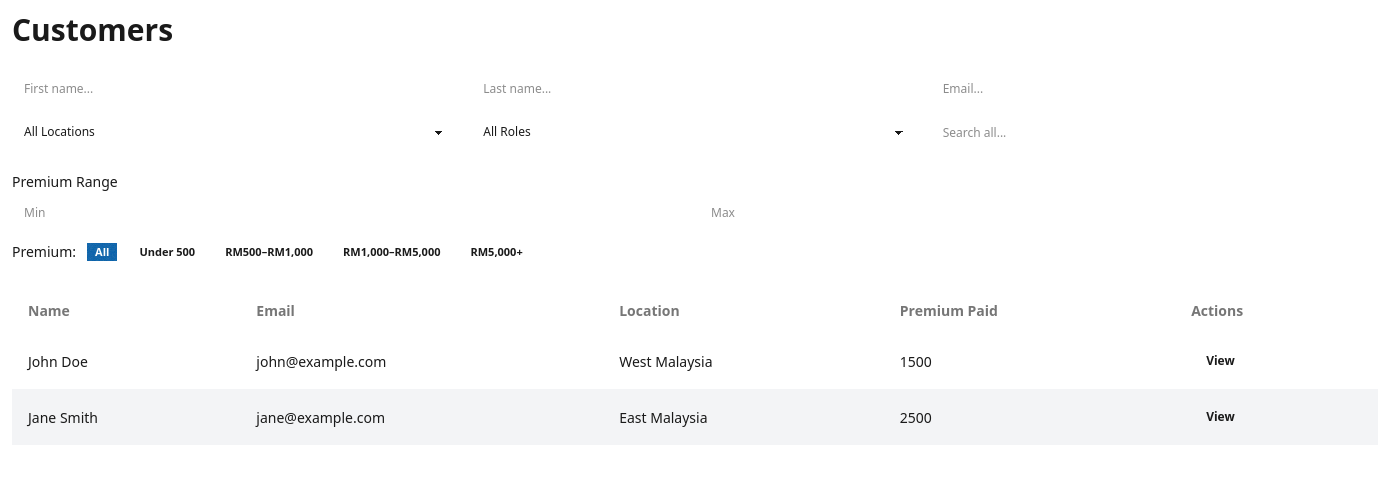
Scenario: Premium Range Search › Premium range presets › clicking "Under 500" sets premiumMax=500 and clears premiumMin
The image size is (1390, 500).
Click the button "Under 500" at (167, 252), box [128,240,206,264]
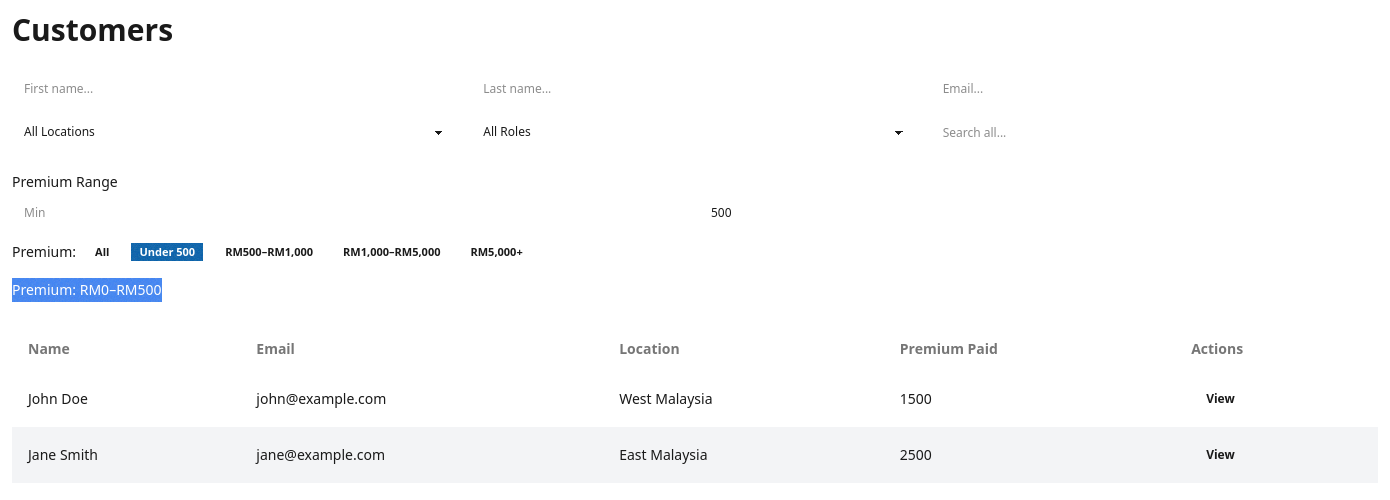
Expected: the number field named "Minimum premium paid" is empty, [12,196,691,228]
Result: the number field named "Maximum premium paid" holds "500" at [699,196,1378,228]
